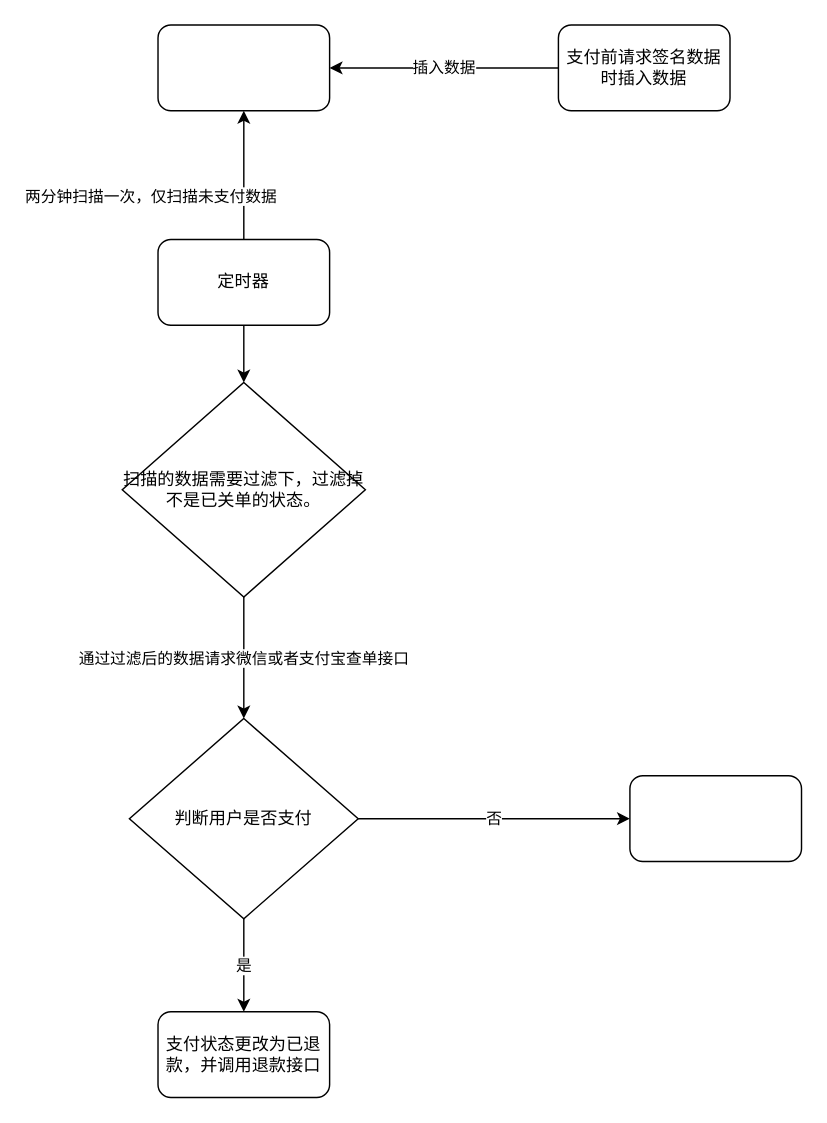
The diagram is 827 pixels wide and 1123 high, and some of its shapes have lost their labels. The centre of each missing label's shape, as x and y in pixels:
支付流水表: the point at 243,67
支付状态更改为已关闭状态: the point at 715,818
